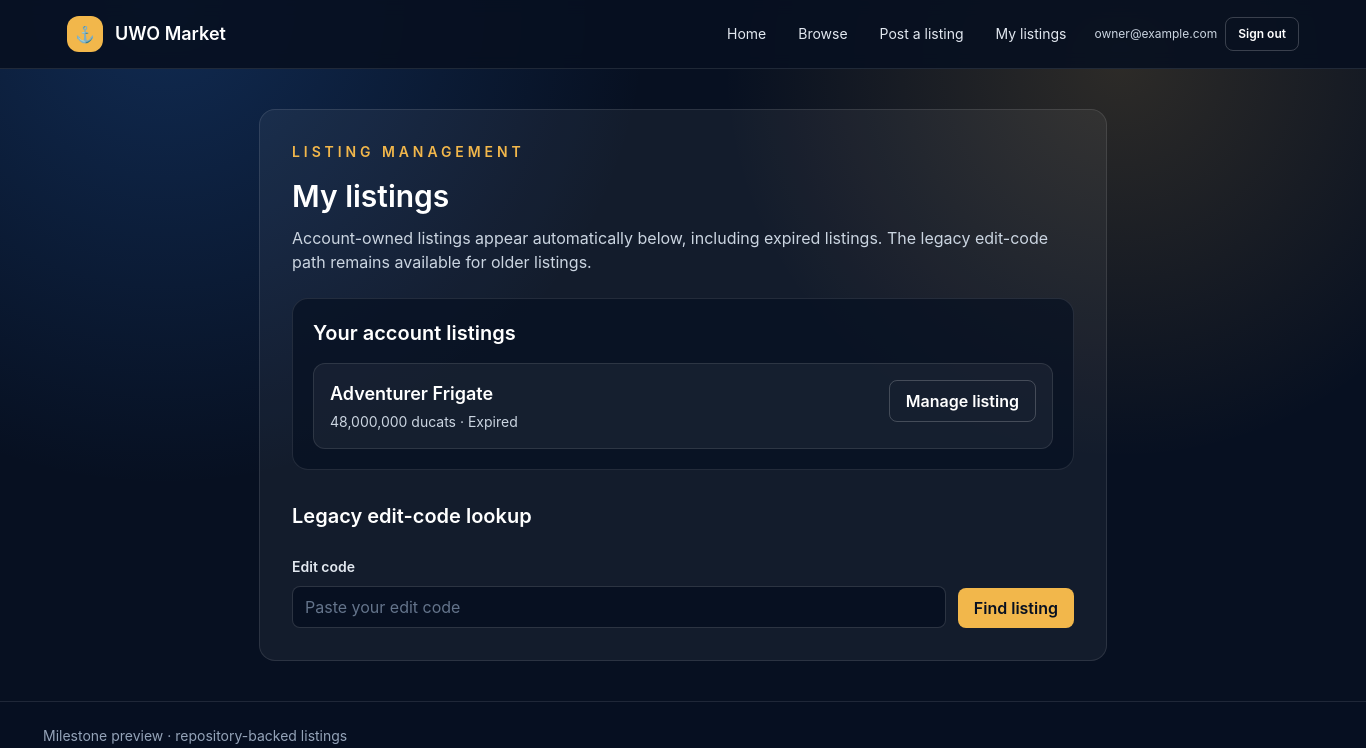
Test: manage listings page › accepts and declines owner-path offers
The image size is (1366, 748).
Click the button "Manage listing" at (962, 401), box x1=889 y1=380 x2=1036 y2=422
(page scrolled)
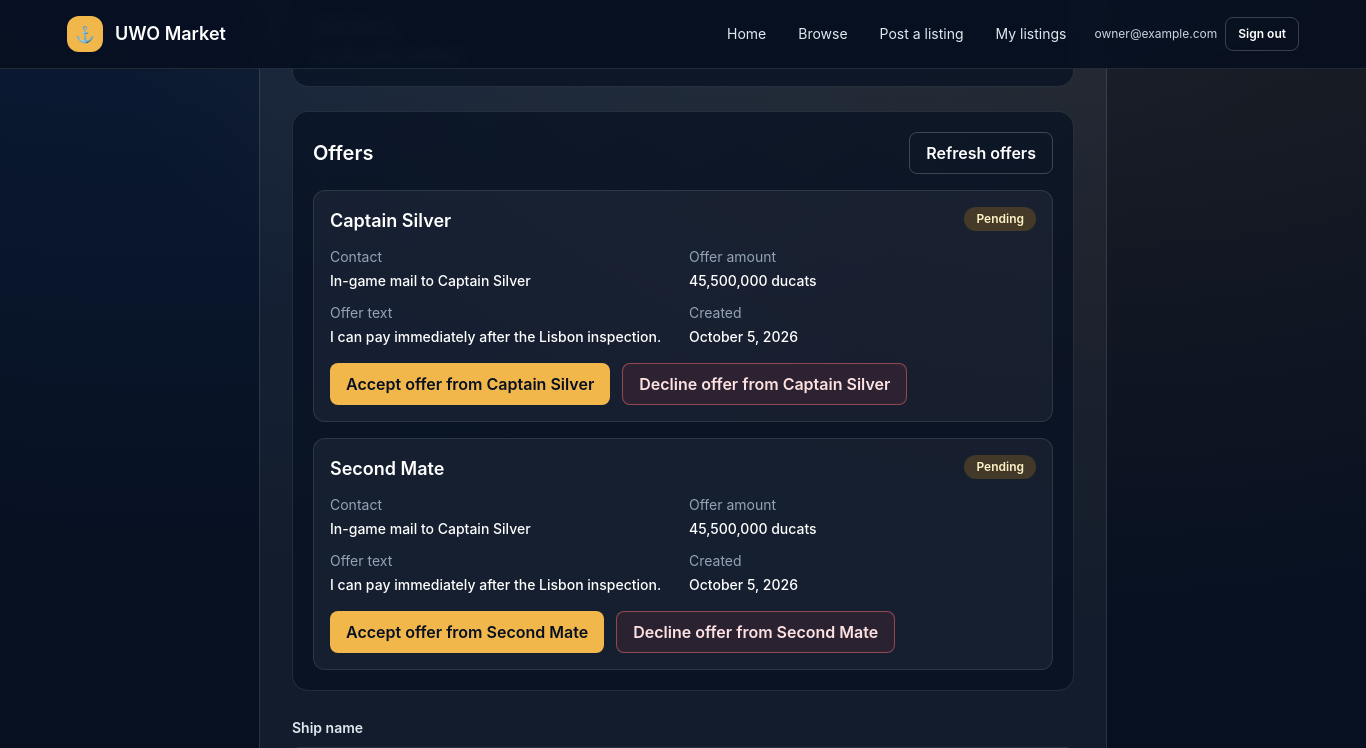
Expected: the heading "Captain Silver" is shown, x1=330 y1=207 x2=451 y2=235
Click the button "Accept offer from Captain Silver" at (470, 384), box x1=330 y1=363 x2=610 y2=405
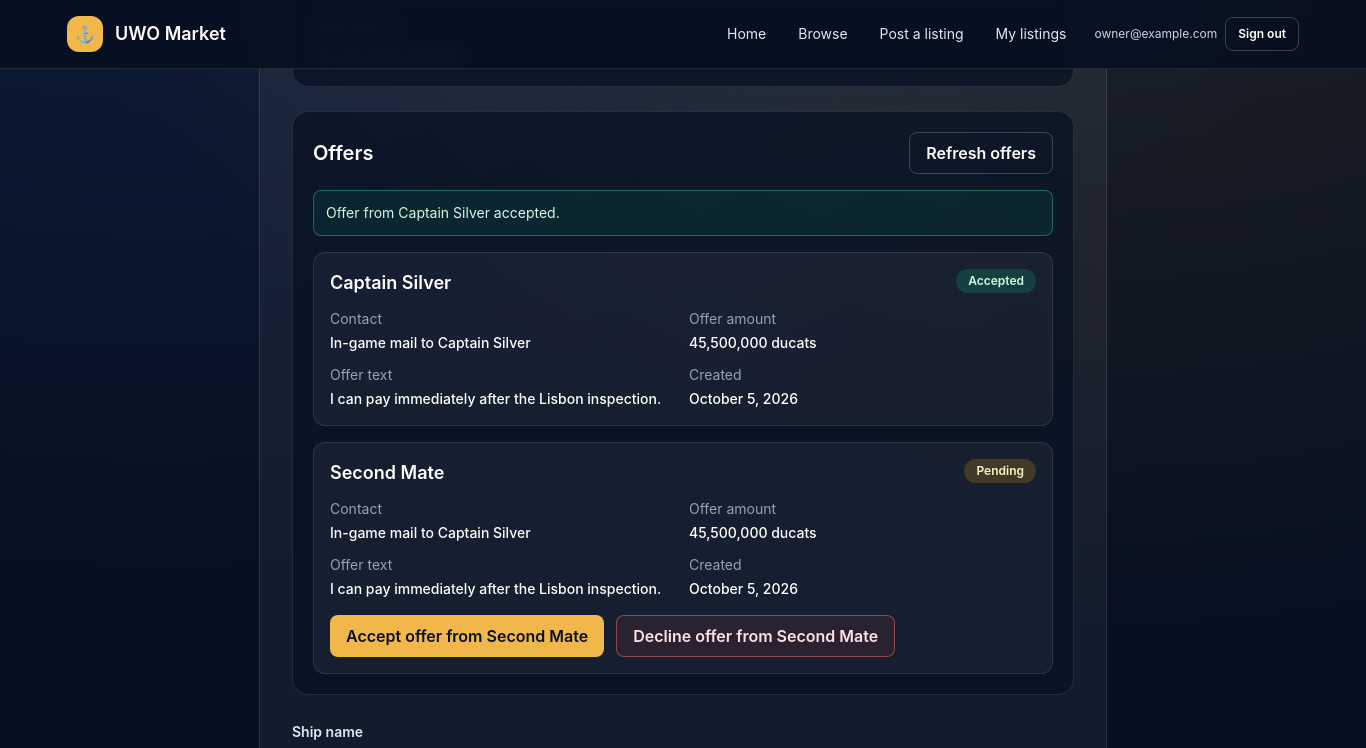
Expected: the text "Offer from Captain Silver accepted." is shown, x1=313 y1=190 x2=1053 y2=236
Click the button "Decline offer from Second Mate" at (756, 636), box x1=616 y1=615 x2=895 y2=657
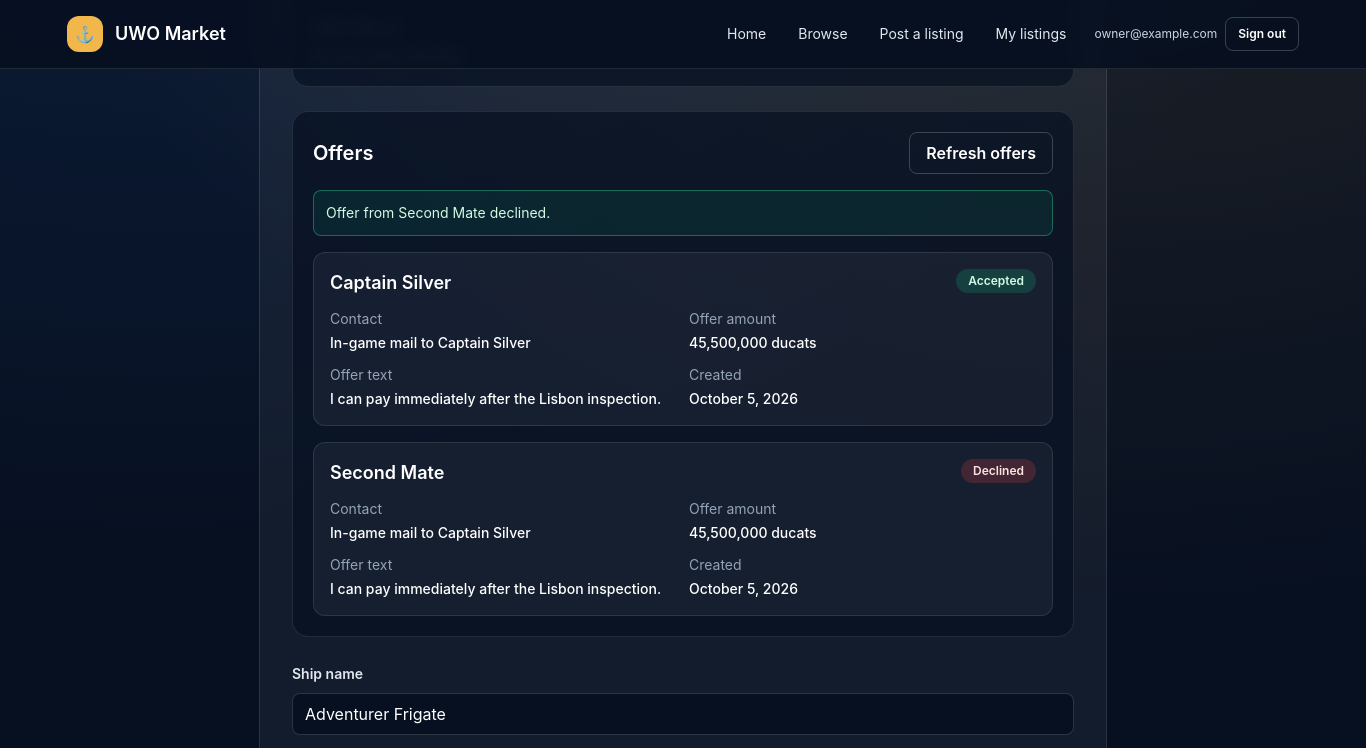
Expected: the text "Offer from Second Mate declined." is shown, x1=313 y1=190 x2=1053 y2=236
